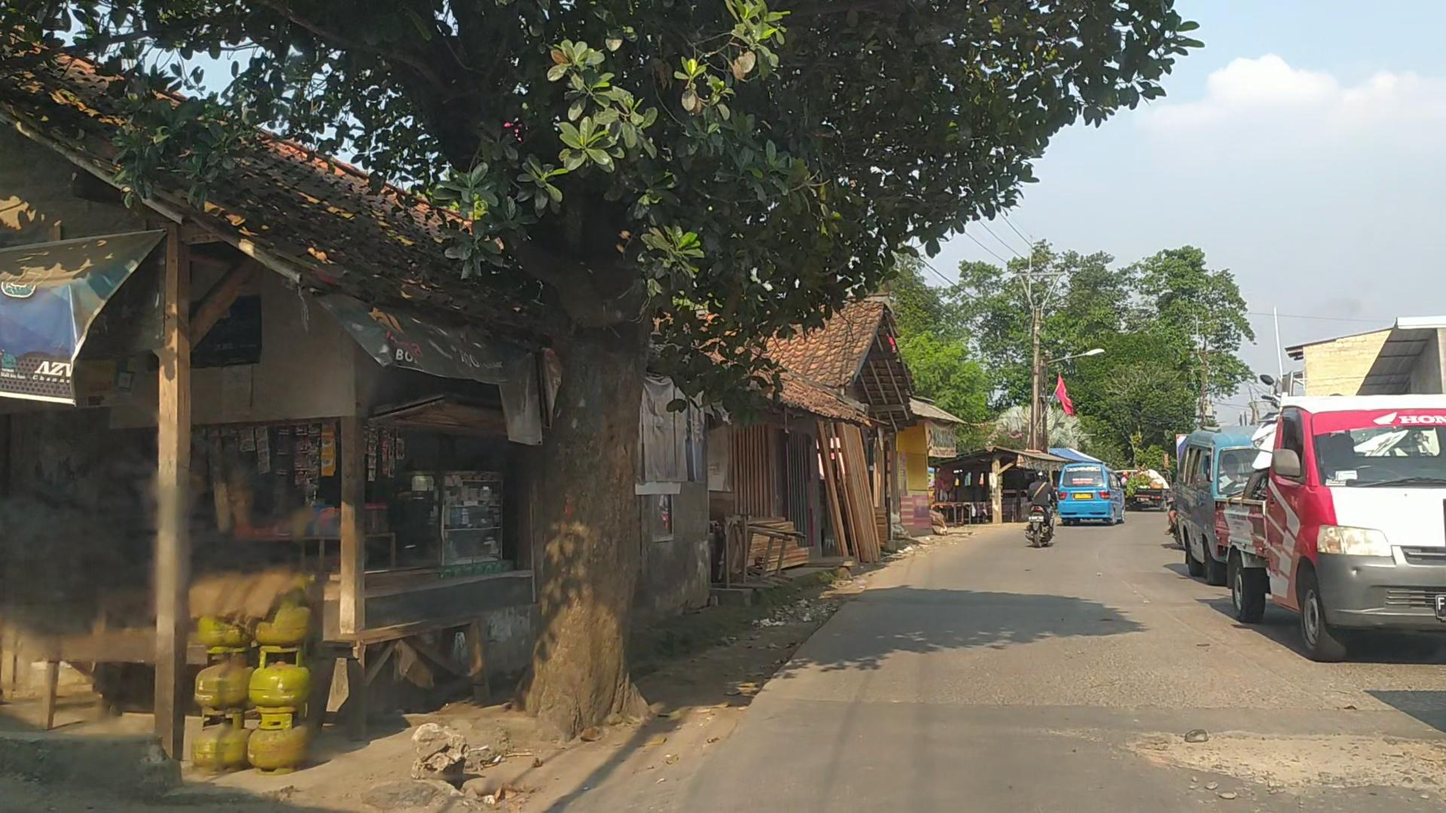pothole: (1126, 731, 1446, 798)
